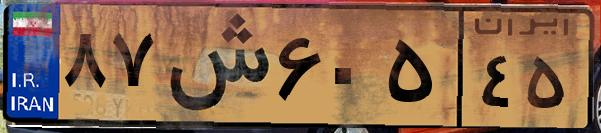0: (330, 28, 385, 110)
4: (475, 38, 525, 113)
5: (385, 28, 445, 110), (525, 38, 570, 115)
6: (270, 28, 330, 110)
7: (110, 28, 158, 98)
8: (57, 26, 110, 100)
ش: (158, 12, 270, 120)
